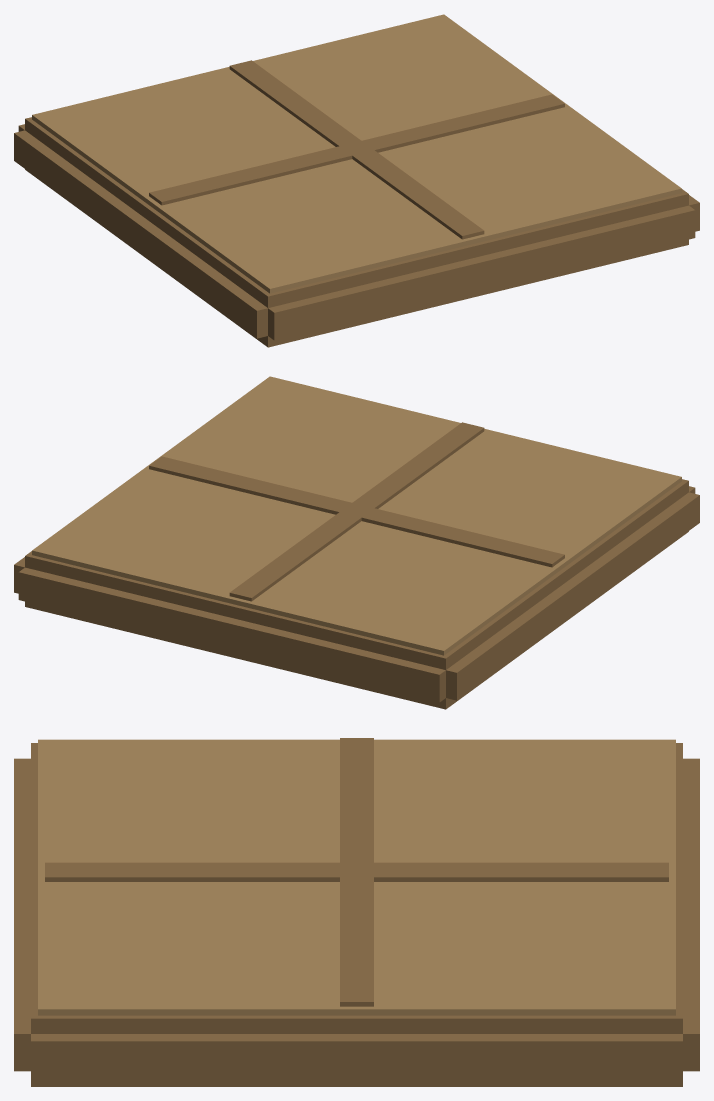
File: Block_Road_Main.glb
The picture shows the model from 3 angles, top to bottom: view 1: azimuth 30°, elevation 25°; view 2: azimuth 150°, elevation 25°; view 3: azimuth 270°, elevation 25°; orthographic projection. The views are drawn at different scales.
Visible parts, largest first — view 1: geometry_0; view 2: geometry_0; view 3: geometry_0.
Boxes of the visible parts, left/top/right/bottom form: geometry_0: left=14, top=14, right=699, bottom=347; geometry_0: left=14, top=376, right=699, bottom=709; geometry_0: left=14, top=738, right=699, bottom=1086.
Bounding box in the file's own units: 2 × 0.255 × 2.
